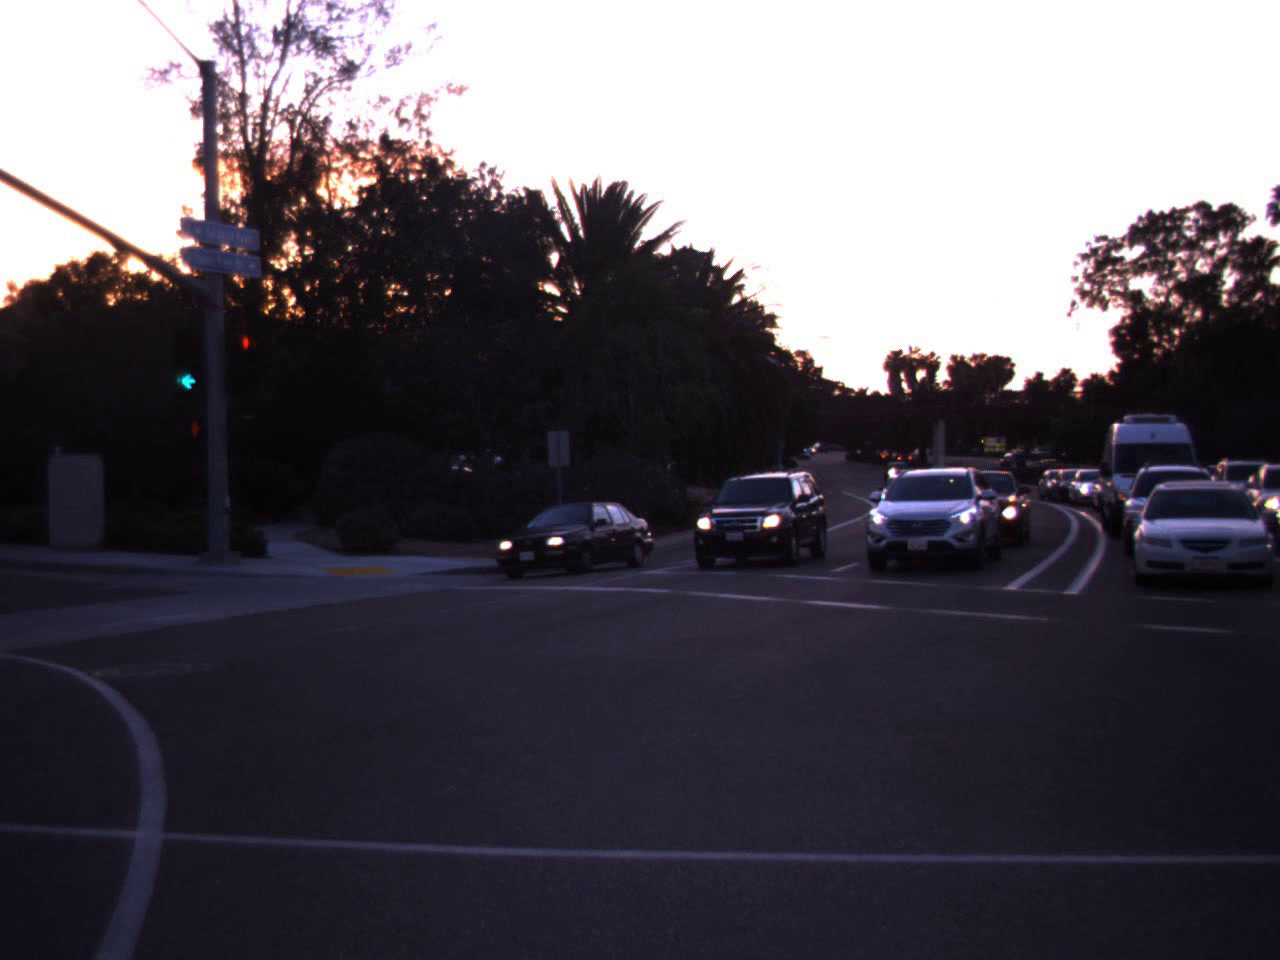go: (149, 303, 227, 398)
